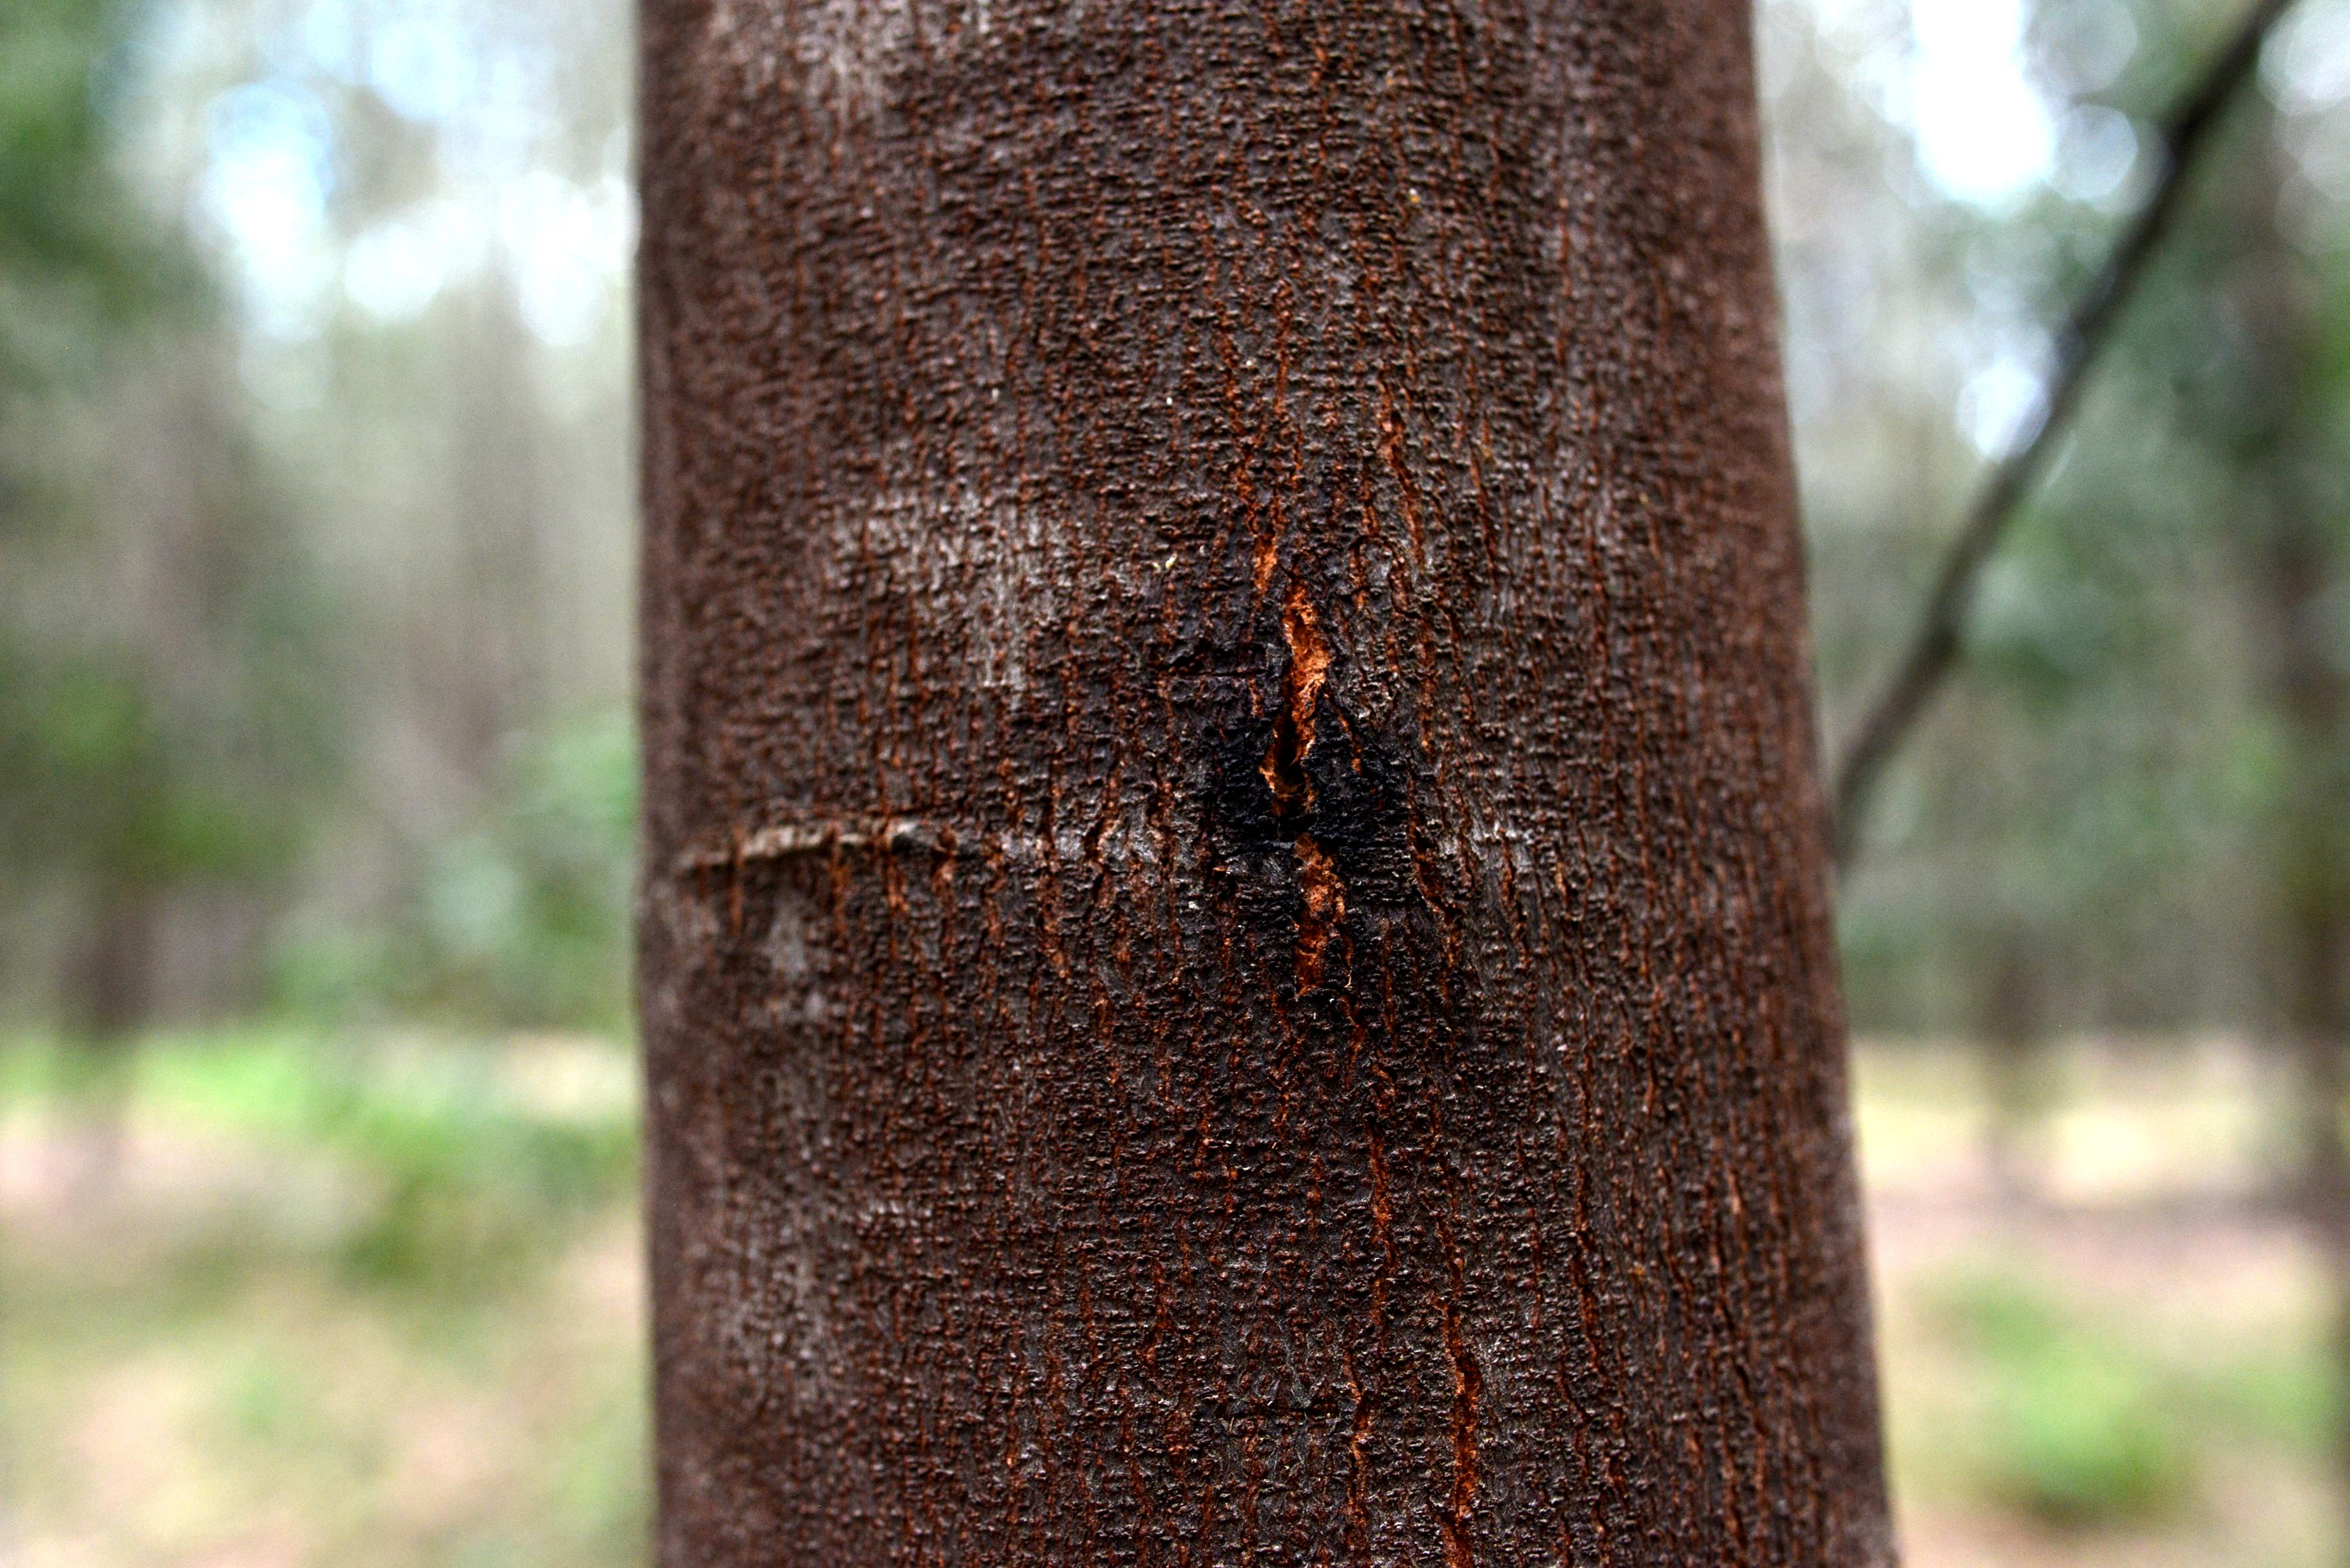Stem Borer: (1172, 560, 1440, 1073)
